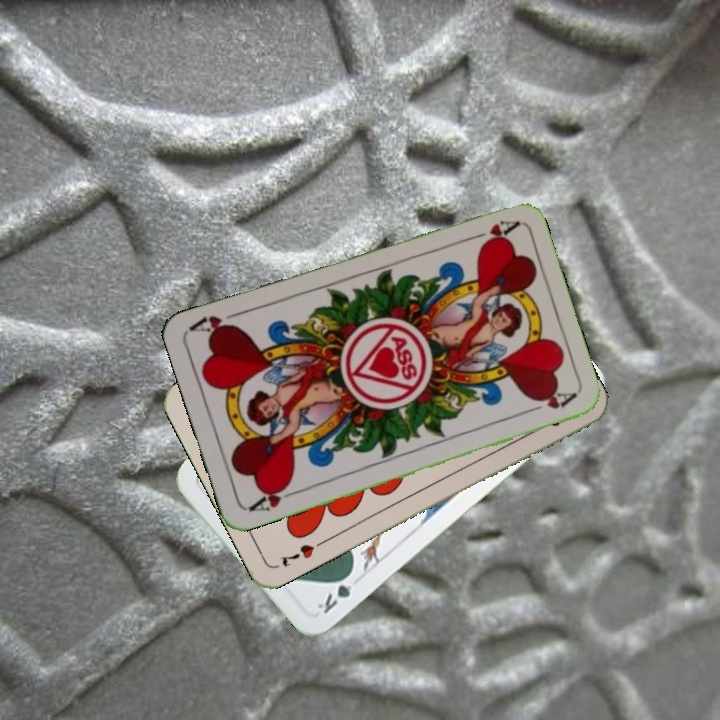GK: (313, 567, 357, 617)
H7: (275, 536, 328, 570)
HA: (245, 479, 302, 515), (462, 216, 520, 250)
